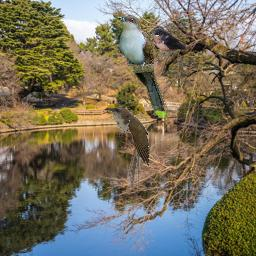Cuckoo: (116, 15, 169, 118), (104, 106, 149, 189)
Swallow: (150, 28, 188, 57)
